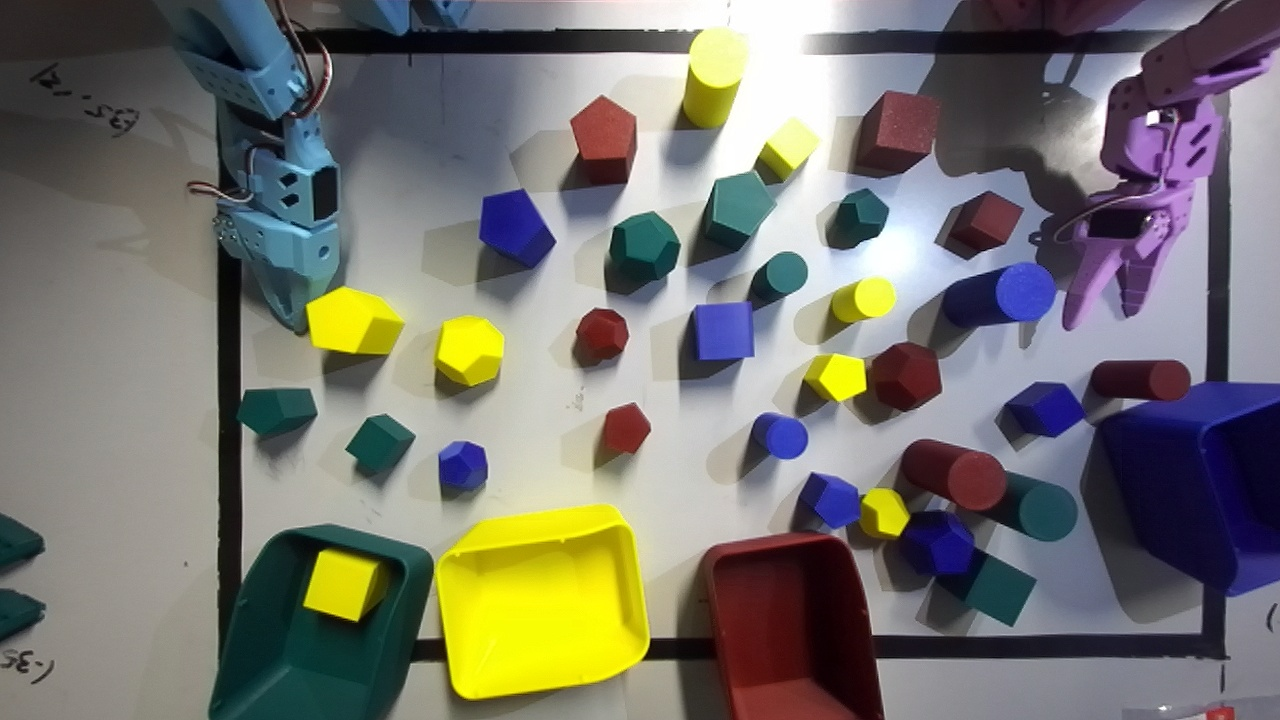bin: (209, 524, 432, 719), (435, 504, 649, 699), (1101, 382, 1279, 594), (702, 533, 883, 719)
cube: (937, 549, 1036, 626), (856, 91, 939, 173), (303, 549, 389, 621), (935, 191, 1022, 258), (1004, 382, 1084, 437), (346, 414, 415, 472), (758, 117, 819, 180), (692, 300, 753, 360)
cylinder: (901, 439, 1006, 510), (942, 262, 1055, 327), (682, 27, 748, 128), (981, 472, 1077, 541), (1090, 360, 1189, 400), (831, 277, 895, 322), (751, 251, 807, 302), (750, 412, 808, 459)
dodecahedron: (867, 341, 941, 410), (610, 211, 679, 281), (434, 316, 503, 386), (900, 510, 974, 575), (574, 308, 628, 367), (835, 188, 888, 247), (438, 441, 487, 497), (860, 488, 909, 538)
hexagonal: (306, 287, 404, 354), (479, 189, 555, 268), (570, 95, 636, 183), (703, 170, 775, 250), (236, 388, 317, 435), (799, 472, 860, 528), (804, 354, 866, 401), (603, 402, 650, 453)
